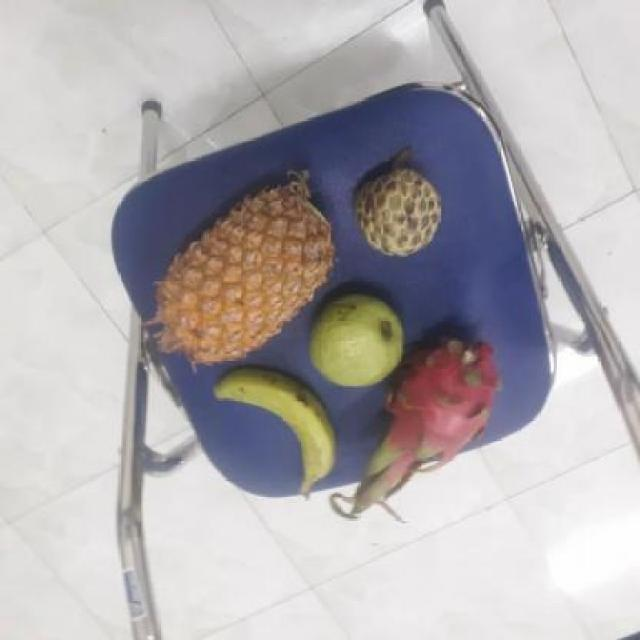banana: (206, 370, 334, 496)
dragon fruit: (352, 335, 496, 491)
guava: (305, 296, 407, 389)
pineapple: (148, 171, 334, 364)
sugar apple: (345, 166, 440, 257)
